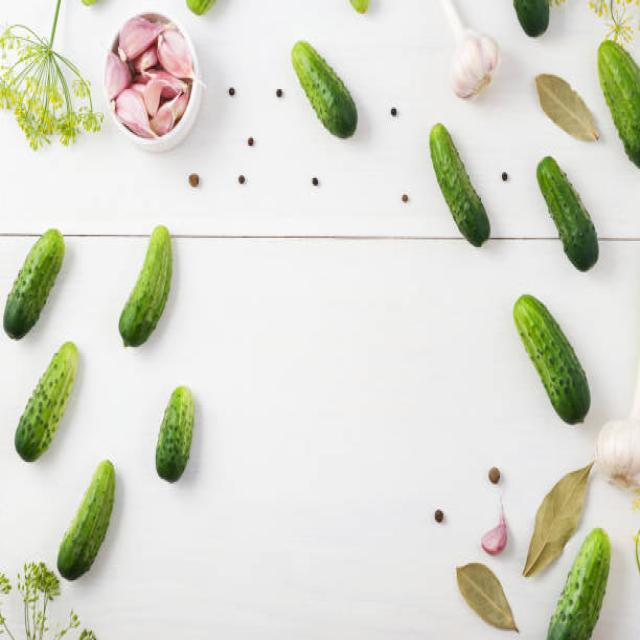cucumber: (511, 289, 592, 426), (428, 118, 493, 247), (13, 336, 78, 464), (533, 151, 600, 275), (547, 525, 612, 640), (57, 458, 115, 582), (2, 228, 65, 340), (117, 227, 174, 350), (292, 37, 358, 141), (596, 34, 640, 166), (155, 380, 194, 486)
